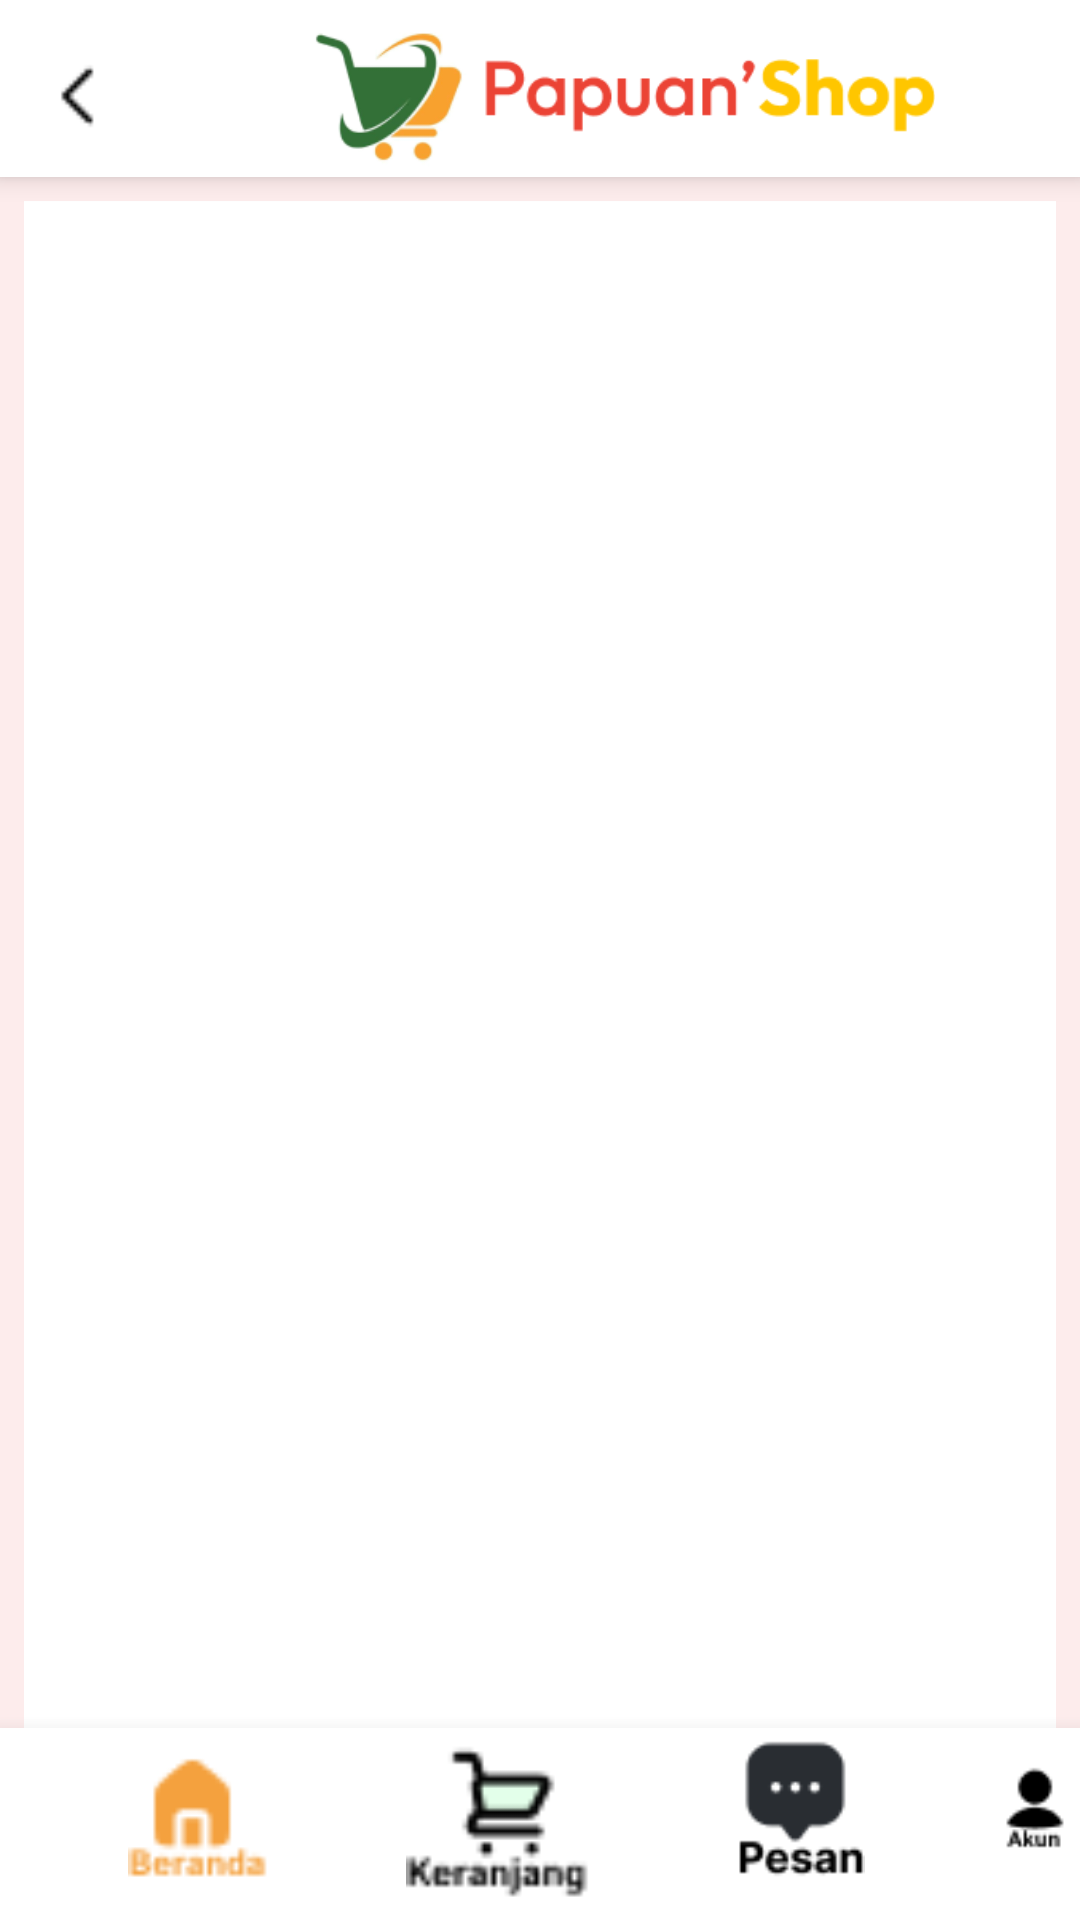

Named icons in this screenshot (1080w x 1920h) and their centers, [x,y]:
back: [77,96]
